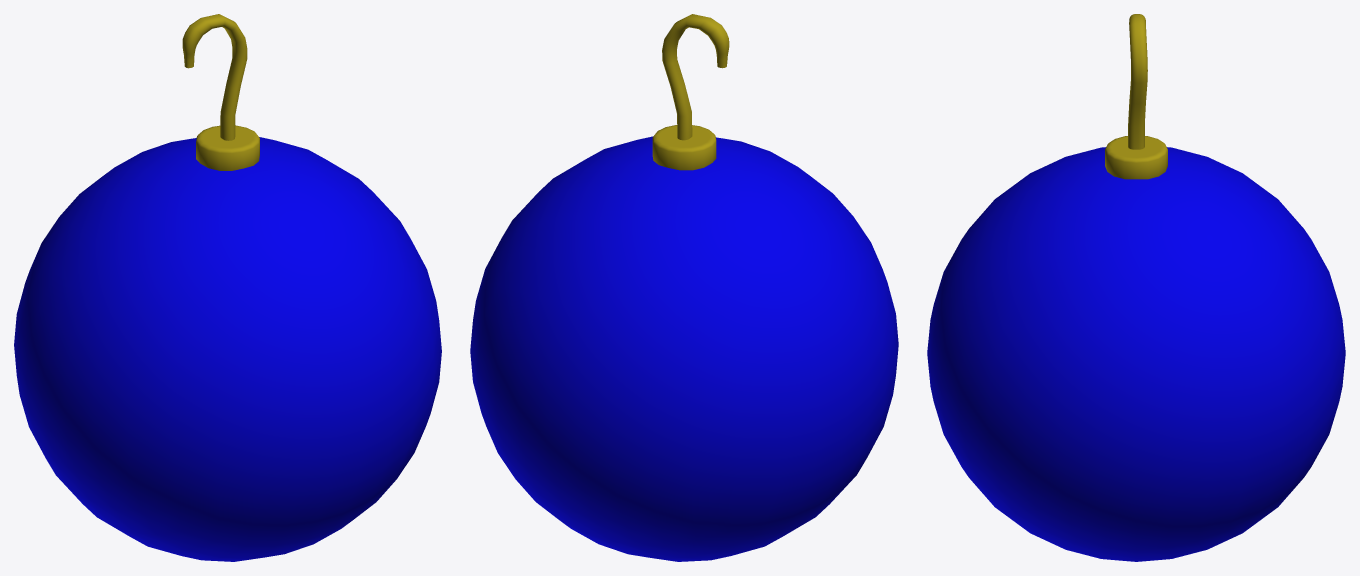
Rendered from ball_blue.glb.
3 views of the same model, side by side, from view 1: azimuth 30°, elevation 25°; view 2: azimuth 150°, elevation 25°; view 3: azimuth 270°, elevation 25° (orthographic). The views are drawn at different scales.
Visible parts, largest first — view 1: Ball_blue; view 2: Ball_blue; view 3: Ball_blue.
Part boxes in pixels (<box>): Ball_blue: <box>14,14,441,561</box>; Ball_blue: <box>470,14,898,561</box>; Ball_blue: <box>927,14,1345,561</box>.
Bounding box in the file's own units: 0.091 × 0.1239 × 0.091.
